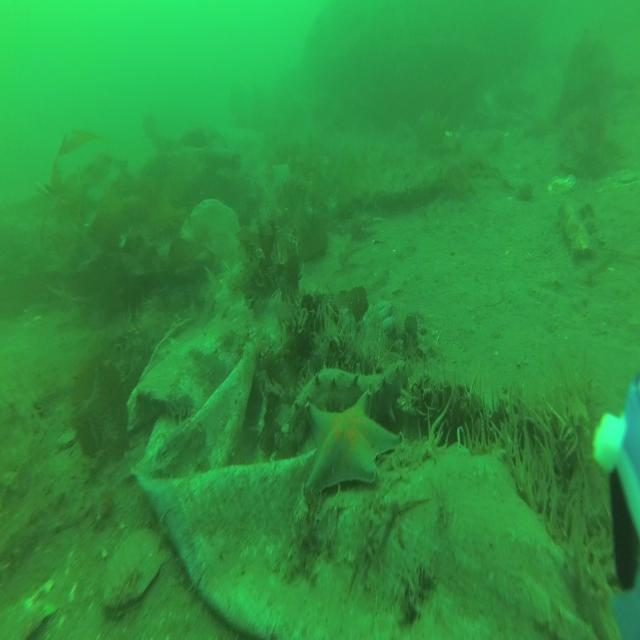holothurian: (281, 359, 412, 456)
scallop: (105, 527, 162, 611)
starfish: (305, 390, 399, 498)
